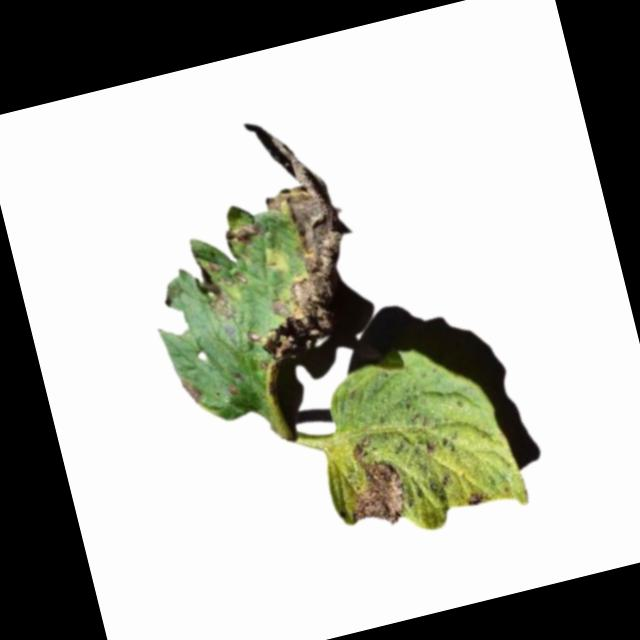Early_blight: (206, 105, 363, 356), (334, 427, 410, 533), (188, 251, 252, 325), (178, 371, 208, 409), (464, 487, 490, 509)
